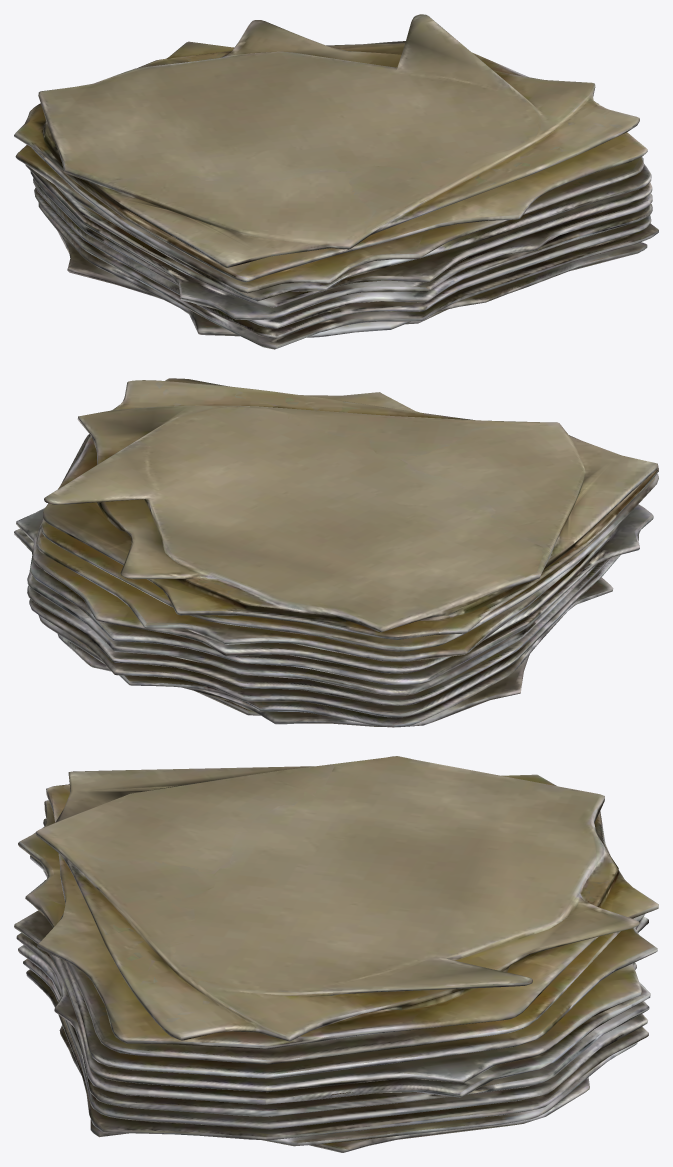
The model's file is mica.glb.
3 renders of one model, top to bottom at view 1: azimuth 30°, elevation 25°; view 2: azimuth 150°, elevation 25°; view 3: azimuth 270°, elevation 25°, orthographic. The views are drawn at different scales.
Visible parts, largest first — view 1: node_0; view 2: node_0; view 3: node_0.
Part boxes in pixels (<box>): node_0: <box>14,14,658,349</box>; node_0: <box>14,378,658,727</box>; node_0: <box>14,756,658,1152</box>.
Bounding box in the file's own units: 0.9705 × 0.2549 × 0.9365.
1 material, 1 textured.
